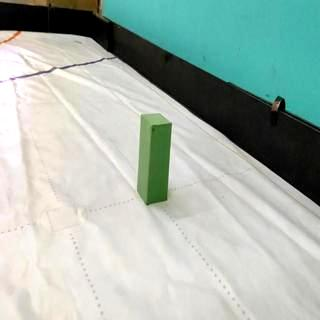greenbox: (138, 111, 173, 208)
